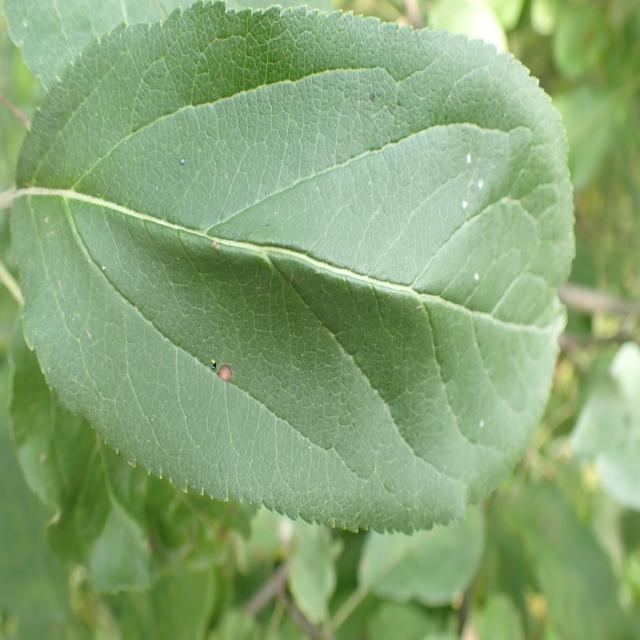Black Rot: (198, 337, 236, 394)
